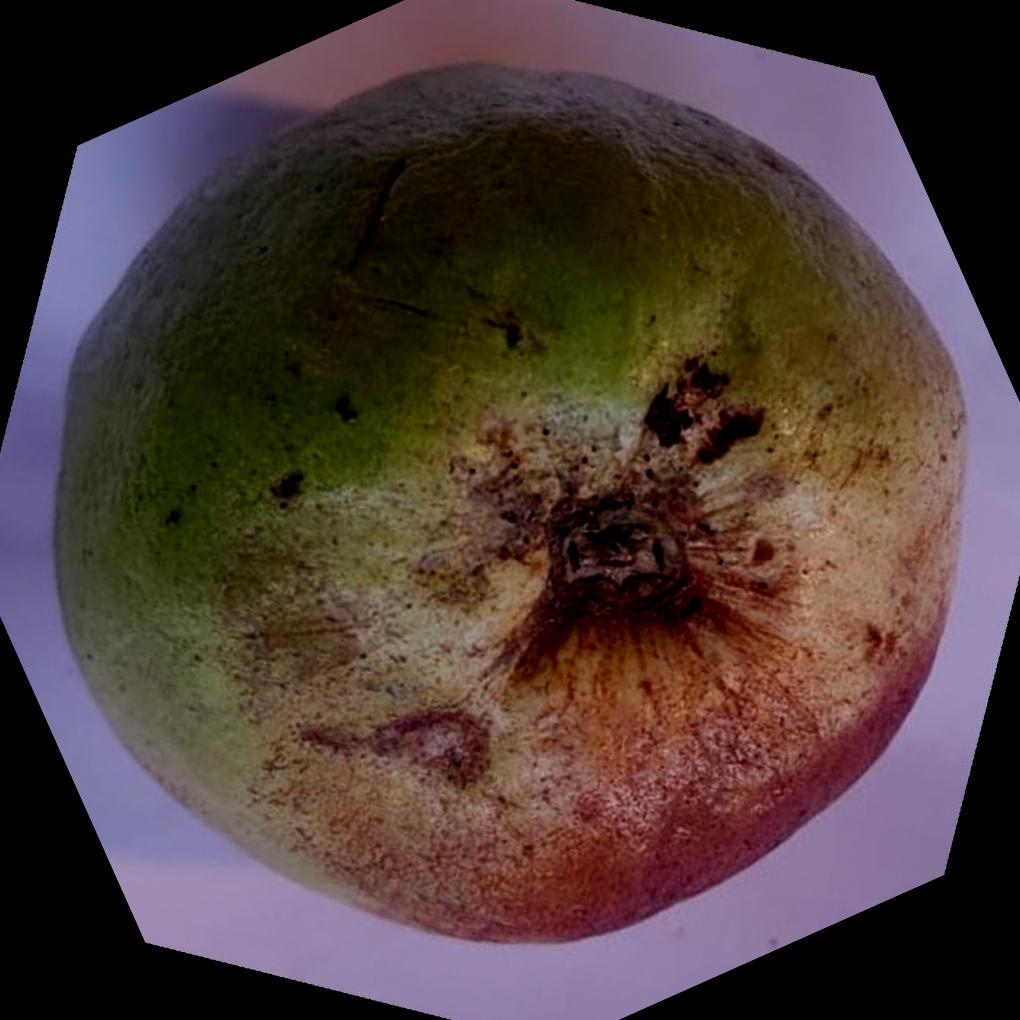FreshOrange: (52, 57, 970, 944)
